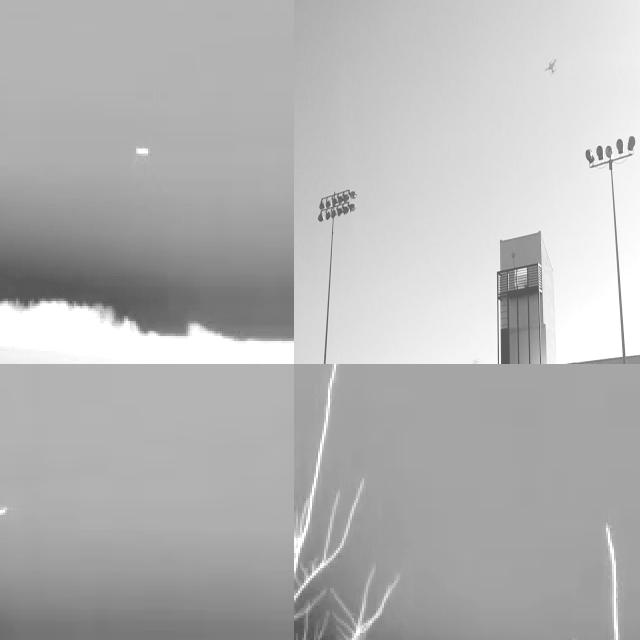1: (126, 139, 160, 171), (0, 500, 16, 530)
drone: (542, 52, 560, 82)
